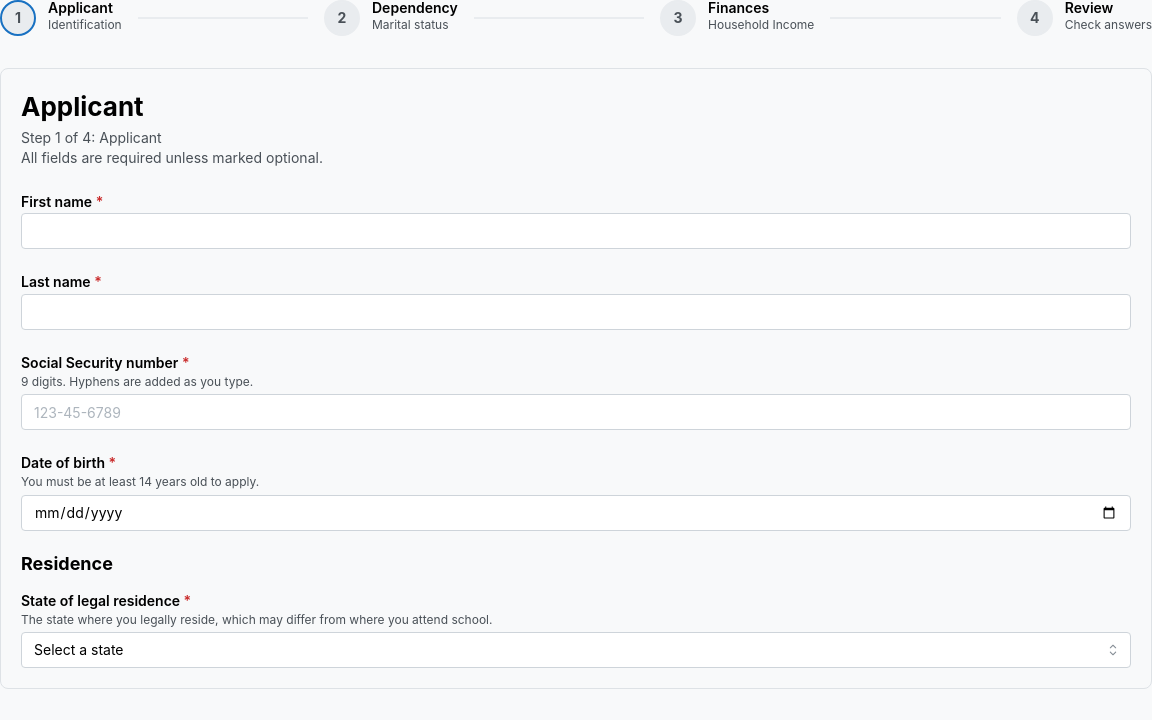
it: moving through the wizard › advances once the step is complete
The width and height of the screenshot is (1152, 720).
Type "Jane" into the field labelled "First name *" at [576, 232], box top-left (21, 214), bottom-right (1131, 250)
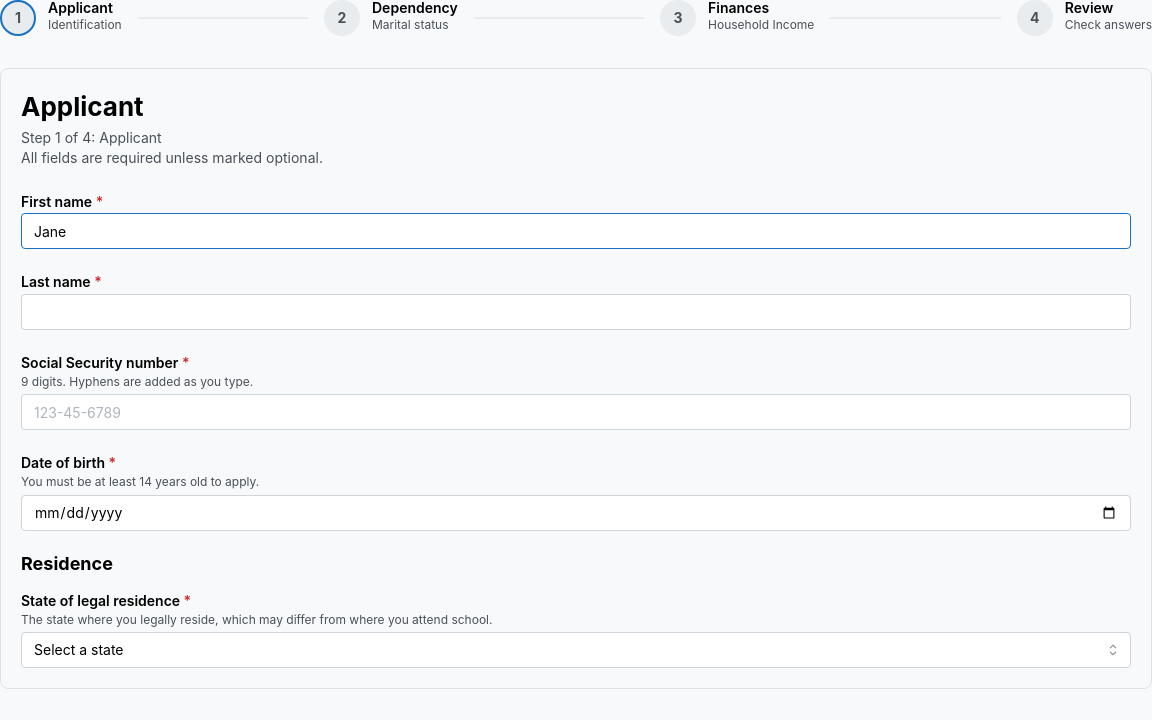
Type "Smith" into the field labelled "Last name *" at [576, 312], box top-left (21, 294), bottom-right (1131, 330)
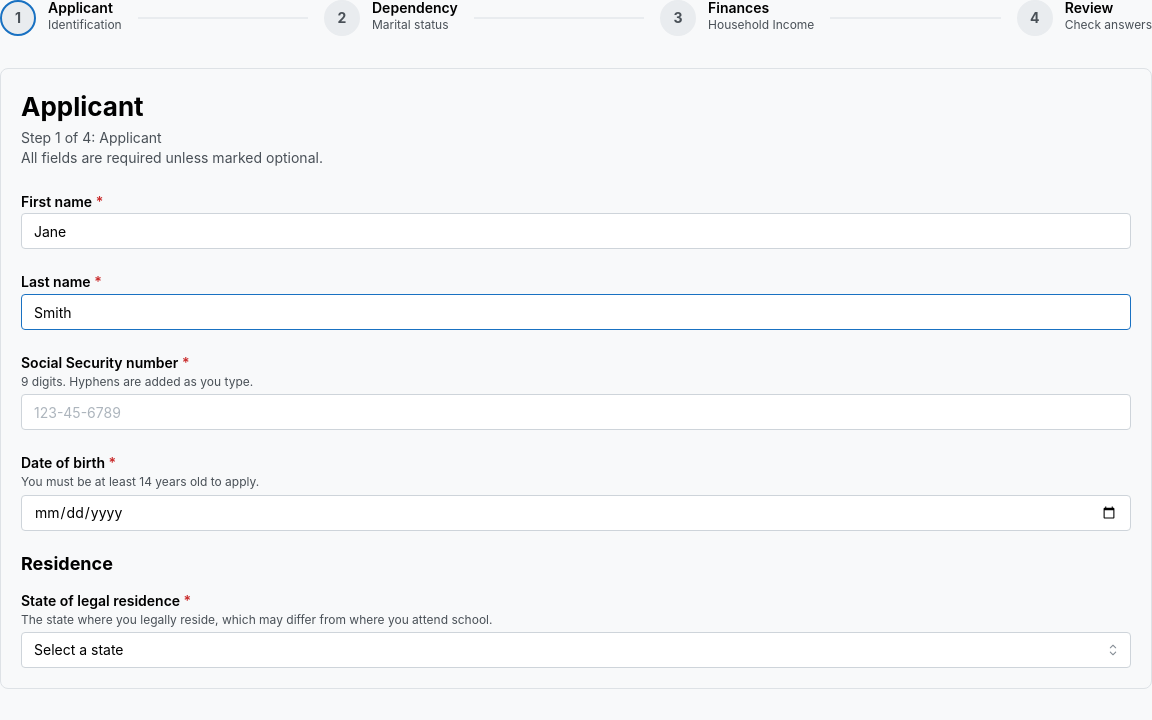
Type "123456789" into the field labelled "Social Security number *" at [576, 412], box top-left (21, 394), bottom-right (1131, 430)
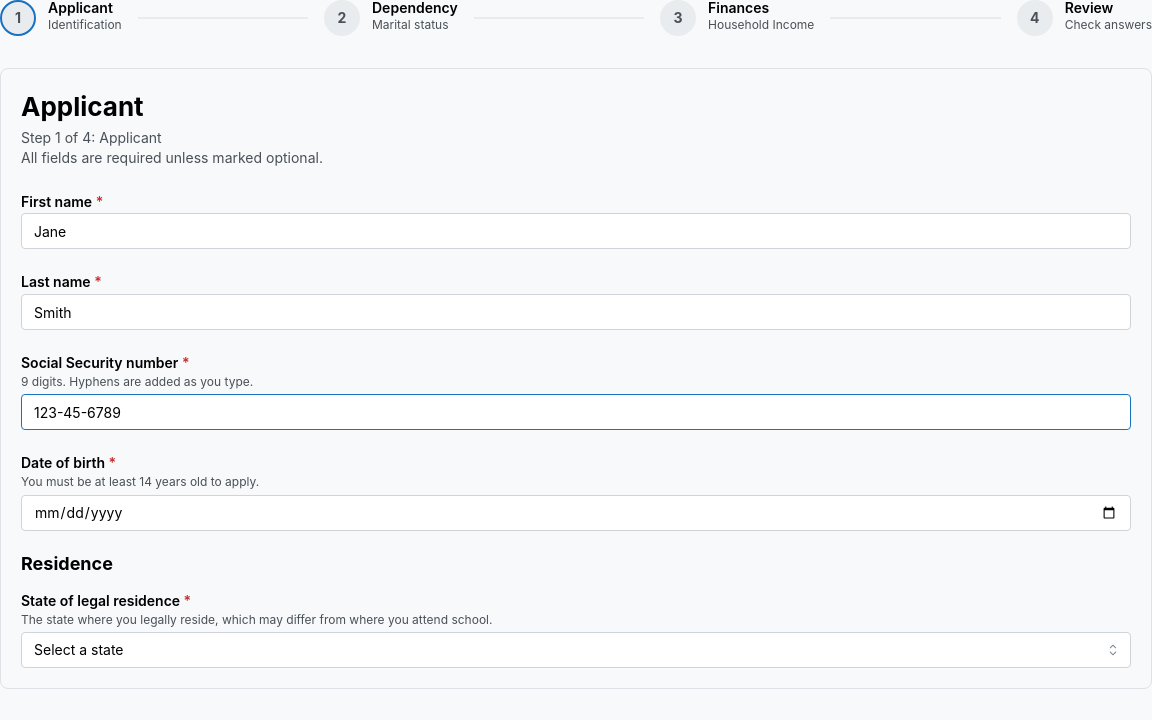
Type "2003-05-15" into the date field labelled "Date of birth *" at [576, 513], box top-left (21, 495), bottom-right (1131, 531)
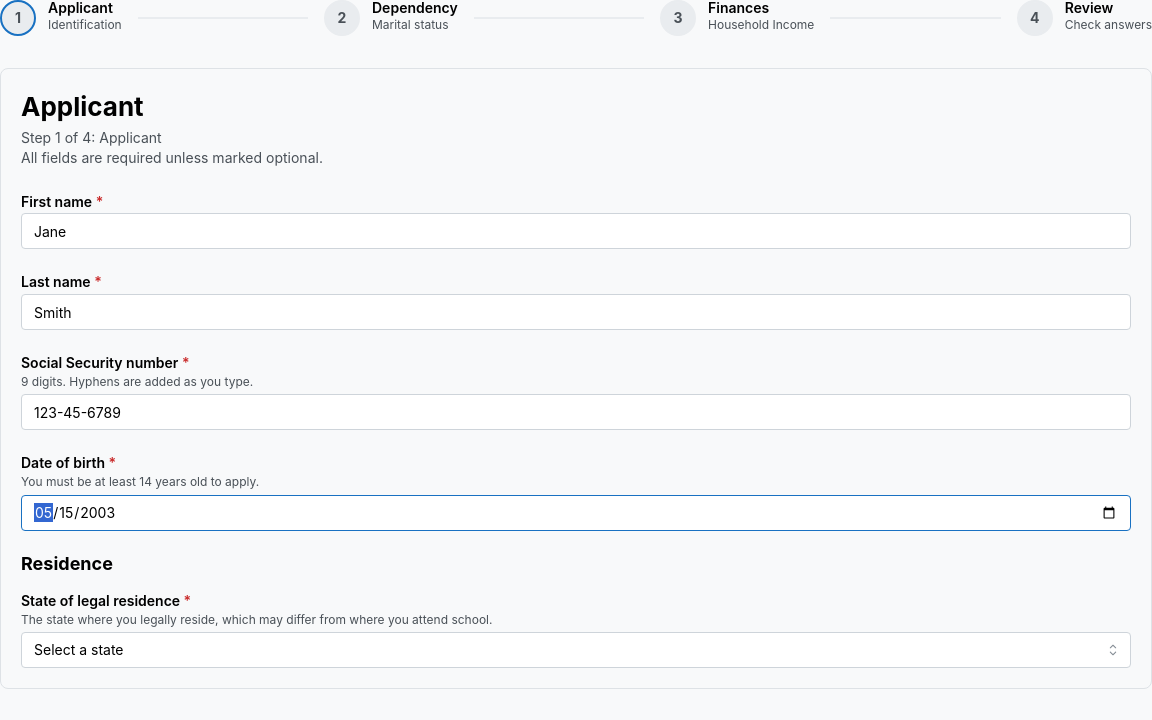
Select "California" in the dropdown labelled "State of legal residence *" at [576, 650], box top-left (21, 632), bottom-right (1131, 668)
(page scrolled)
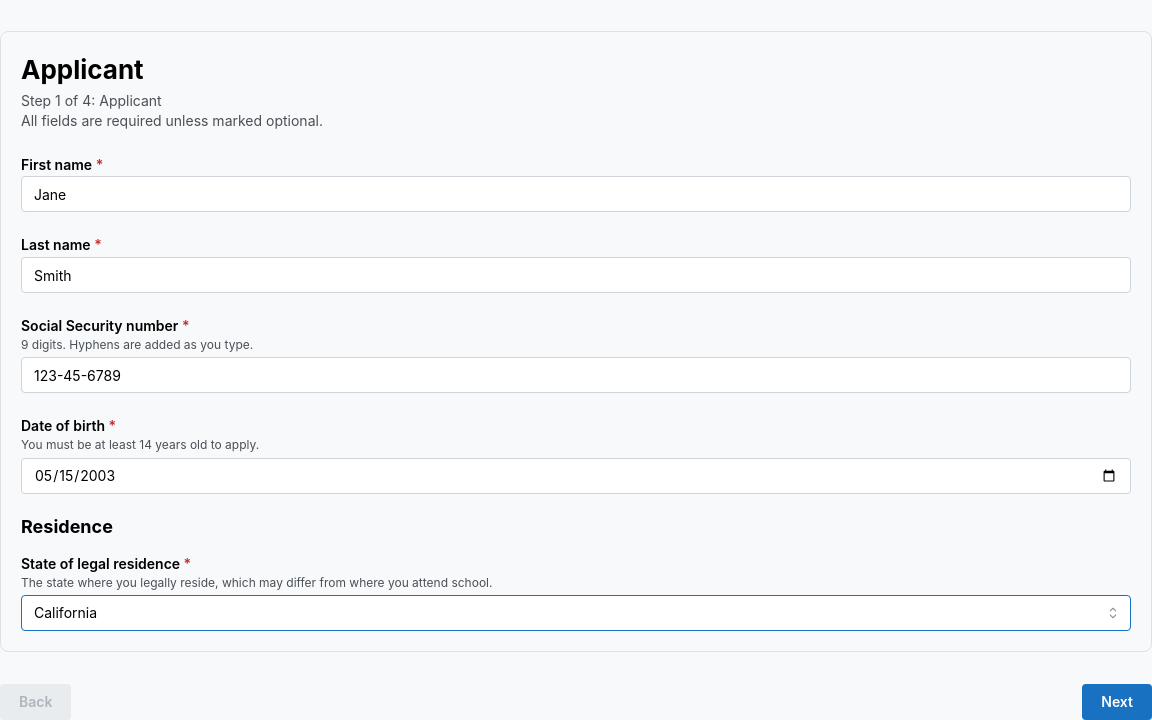
Click the button "Next" at [1117, 702], box top-left (1082, 684), bottom-right (1151, 719)
(page scrolled)
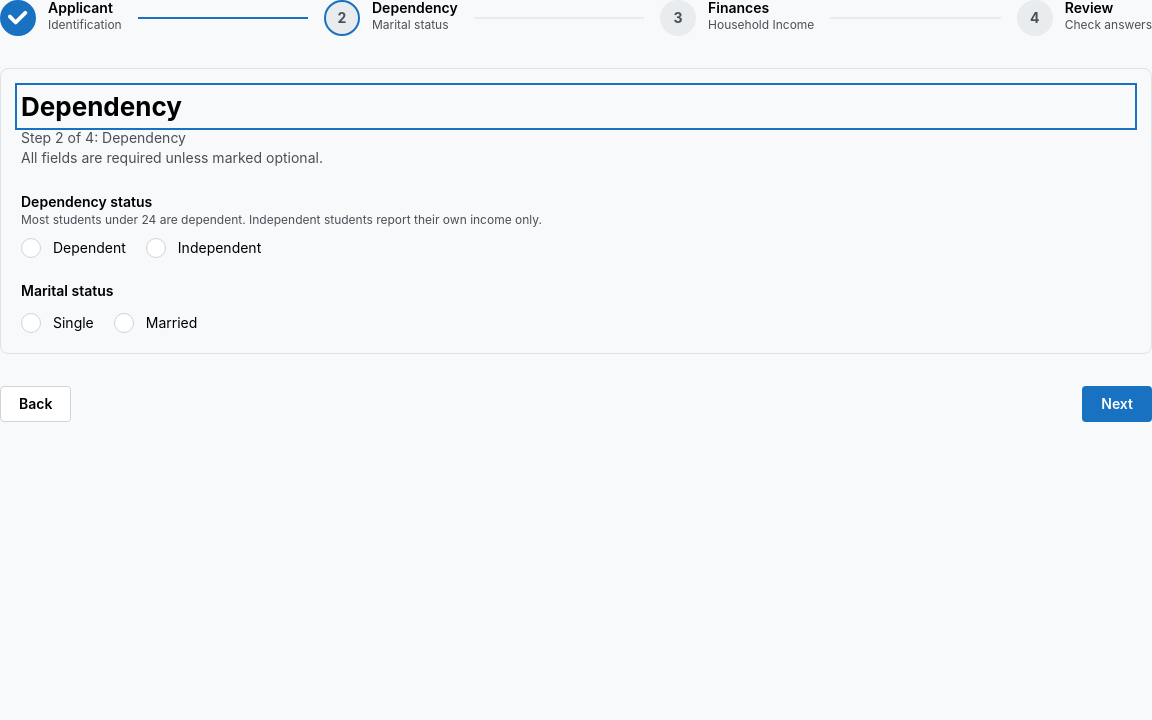
Now the heading "Dependency" is shown, box top-left (21, 91), bottom-right (182, 122)
Now the text "Step 2 of 4: Dependency" is shown, box top-left (21, 129), bottom-right (186, 146)
